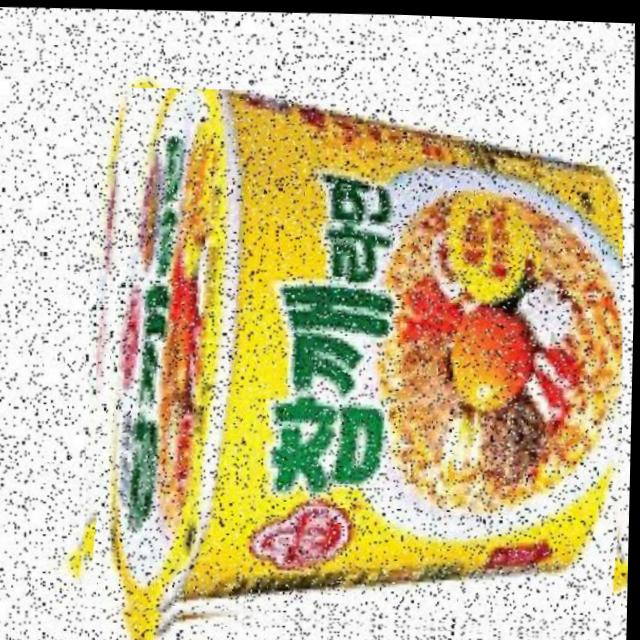Miscellaneous: (68, 75, 632, 640)
